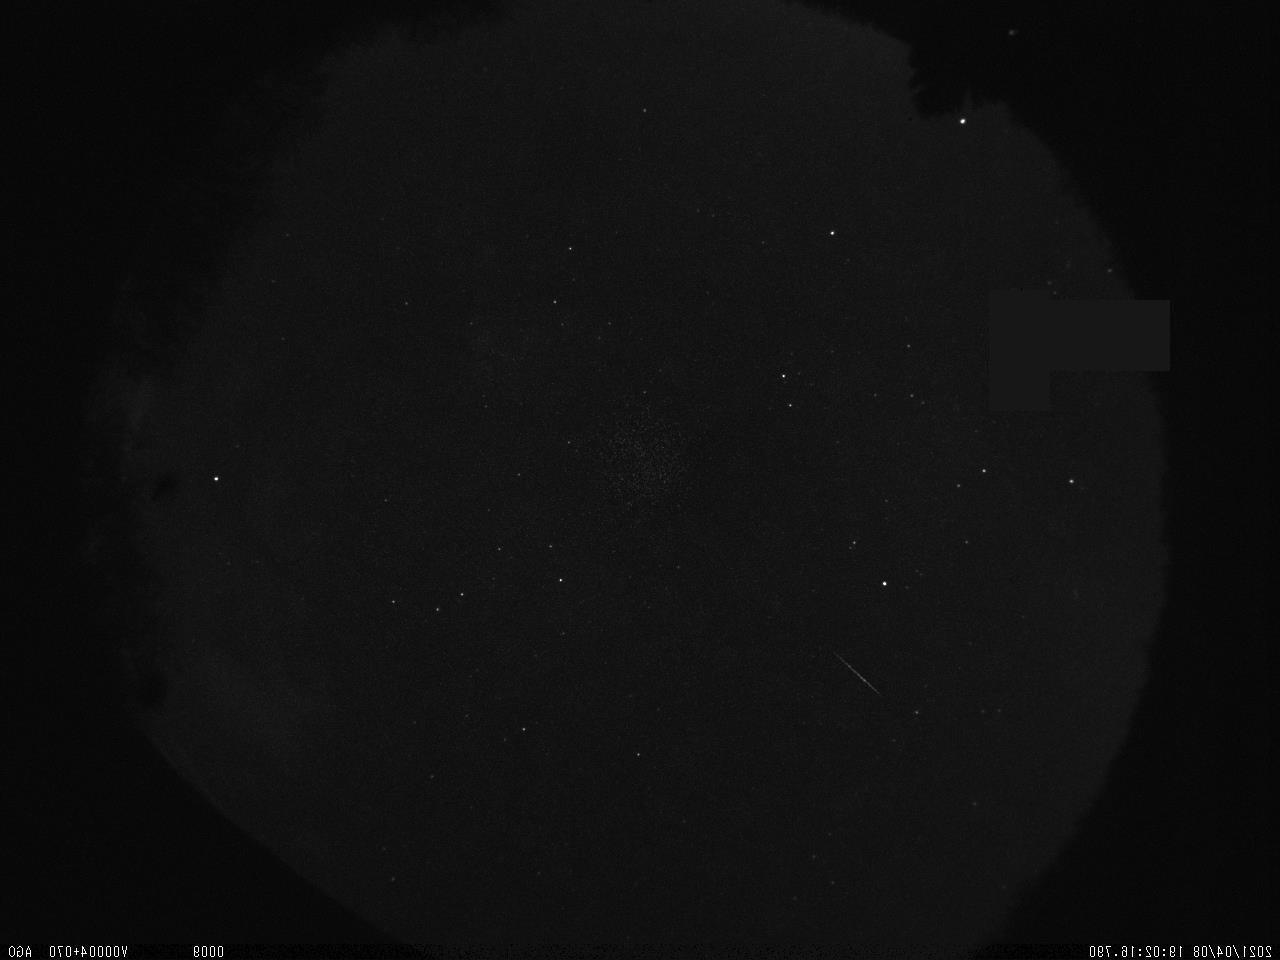meteor: (804, 620, 926, 712)
